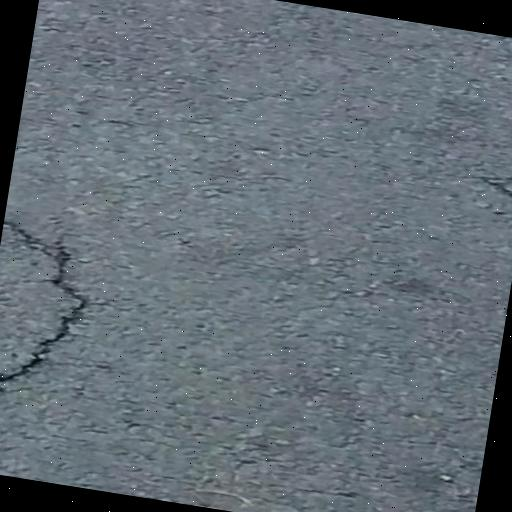spalling: (0, 218, 98, 397)
